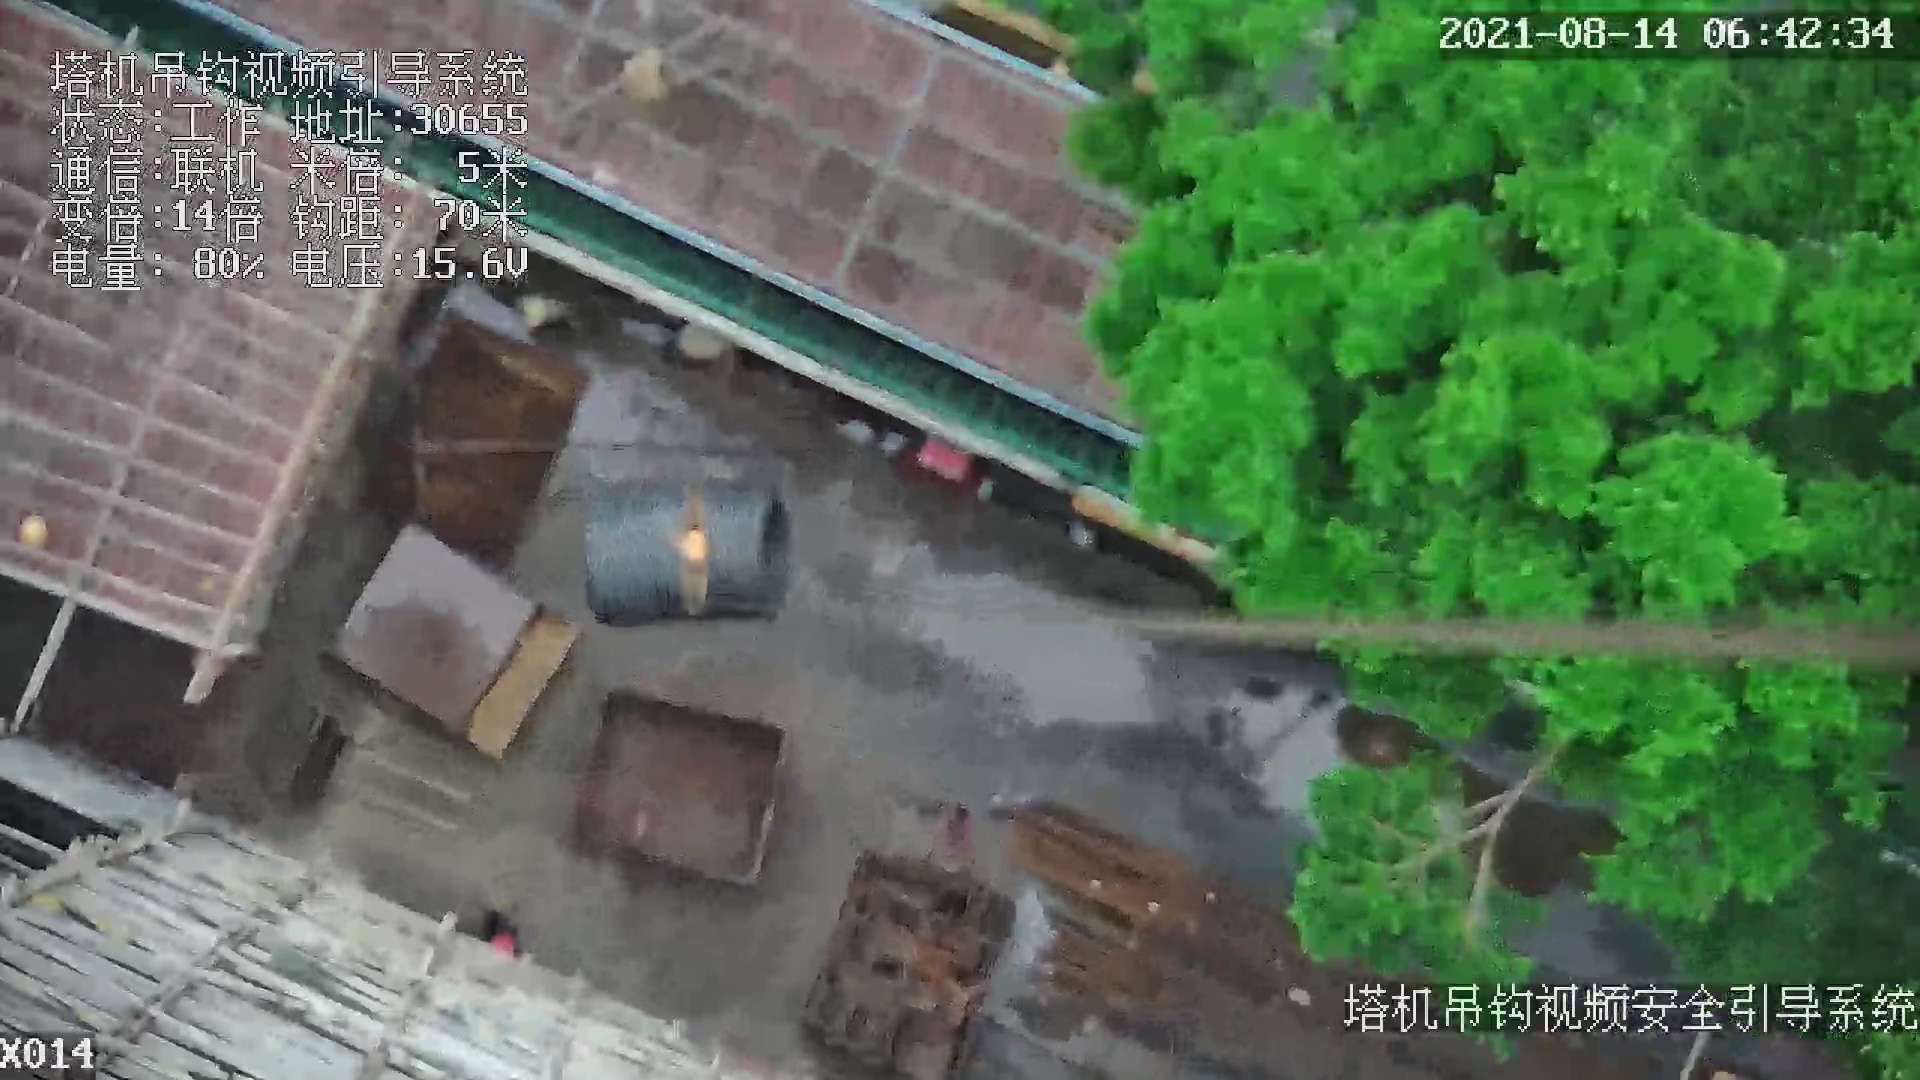hook: (663, 495, 715, 615)
